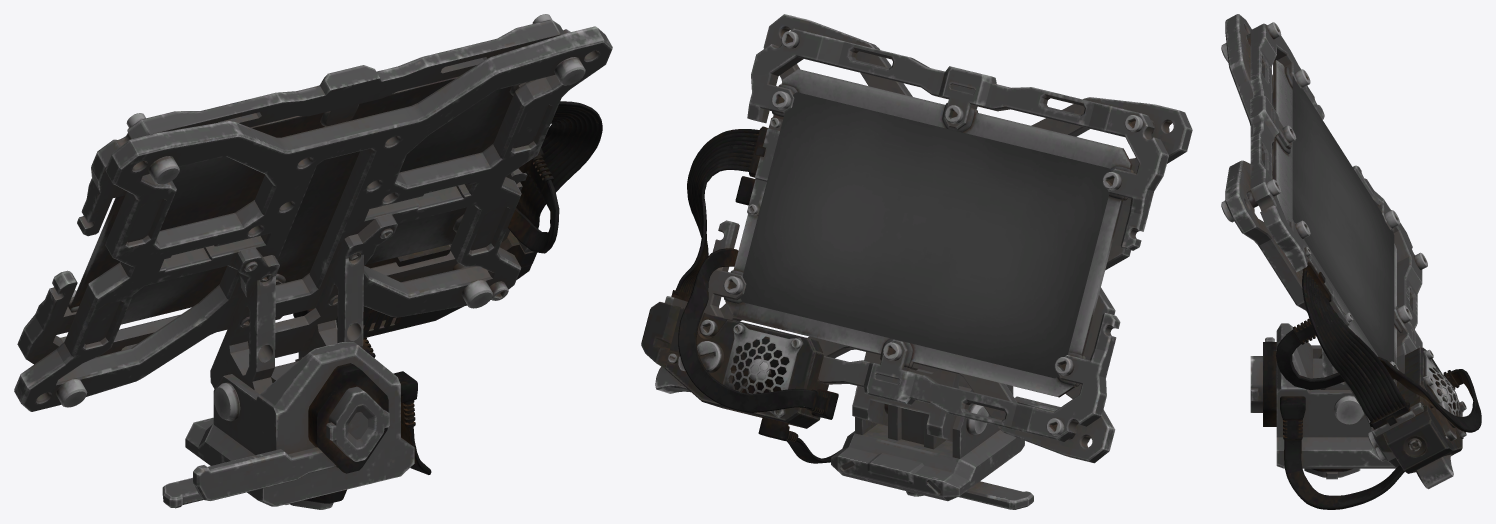
The model's file is Screen_5.glb.
The picture shows the model from 3 angles, left to right: view 1: azimuth 30°, elevation 25°; view 2: azimuth 150°, elevation 25°; view 3: azimuth 270°, elevation 25°; orthographic projection. The views are drawn at different scales.
Visible parts, largest first — view 1: Screen_5; view 2: Screen_5, Screen_Display_2.002, Screen_Display_5; view 3: Screen_5, Screen_Display_2.002, Screen_Display_5.
Part boxes in pixels (<box>): Screen_5: <box>14,14,612,509</box>; Screen_5: <box>641,14,1192,509</box>; Screen_Display_2.002: <box>740,92,1110,378</box>; Screen_Display_5: <box>725,69,1130,396</box>; Screen_5: <box>1221,14,1481,509</box>; Screen_Display_2.002: <box>1292,76,1394,362</box>; Screen_Display_5: <box>1276,60,1396,386</box>.
Size of the model in its own units: 0.1449 by 0.1184 by 0.0766.
2 materials, 2 textured.
